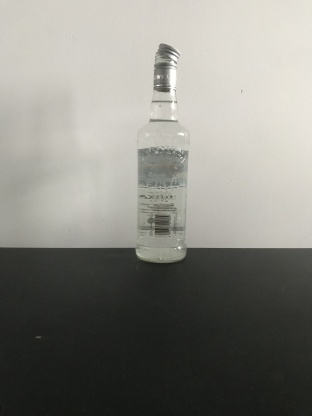nakretka: (151, 41, 181, 92)
